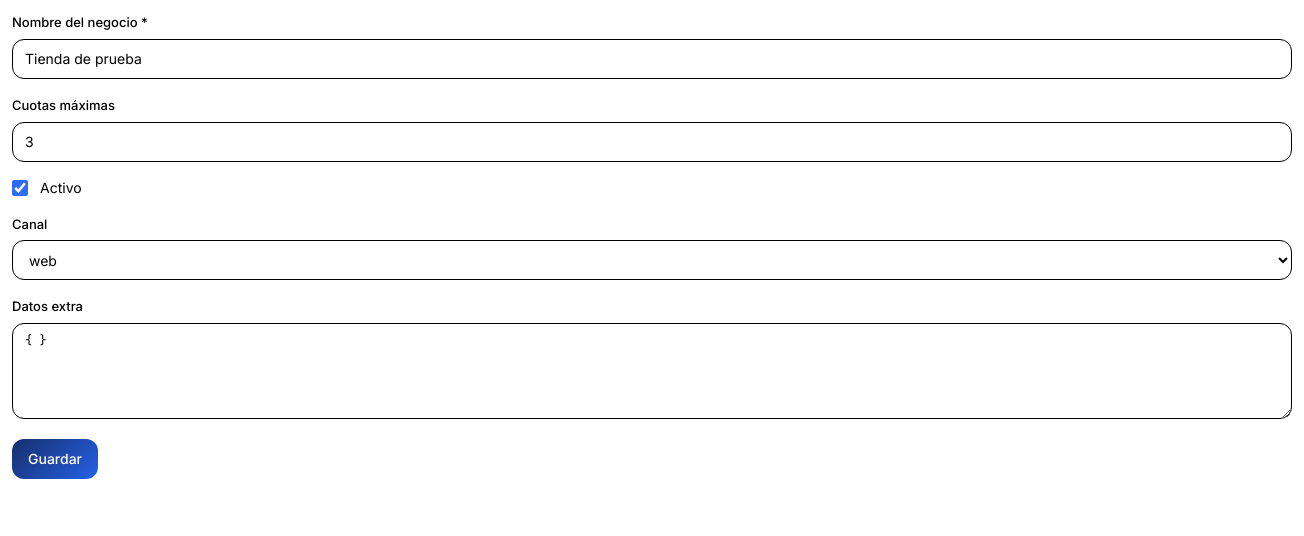
Scenario: JsonSchemaForm (HU-UI-04) › al guardar bien confirma, refresca y avisa a quien lo usa
What coordinates should you click on to do the following:
click the button "Guardar"
I would click on:
 (55, 459)
Its box is x1=12 y1=439 x2=98 y2=479.
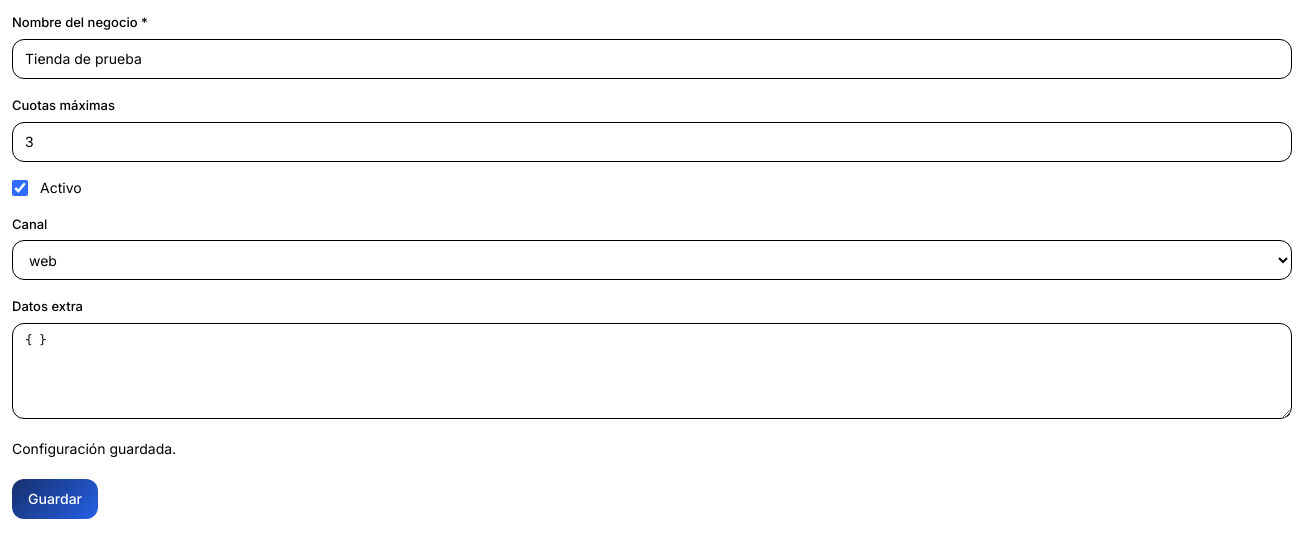
Expected: the text "Configuración guardada." is shown, x1=12 y1=440 x2=176 y2=457
